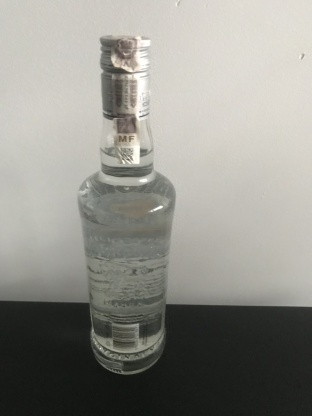nakretka: (98, 32, 152, 121)
